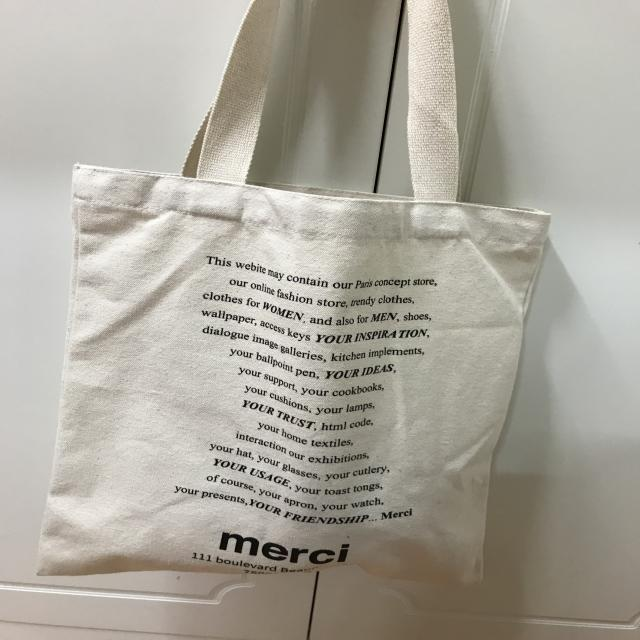ecobag: (51, 16, 539, 578)
